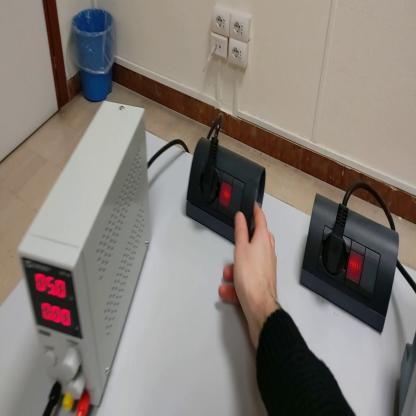hand: (222, 201, 280, 328)
oscilloscope: (397, 333, 416, 415)
power supply: (14, 103, 154, 408)
socket: (300, 193, 400, 338), (188, 138, 268, 246)
